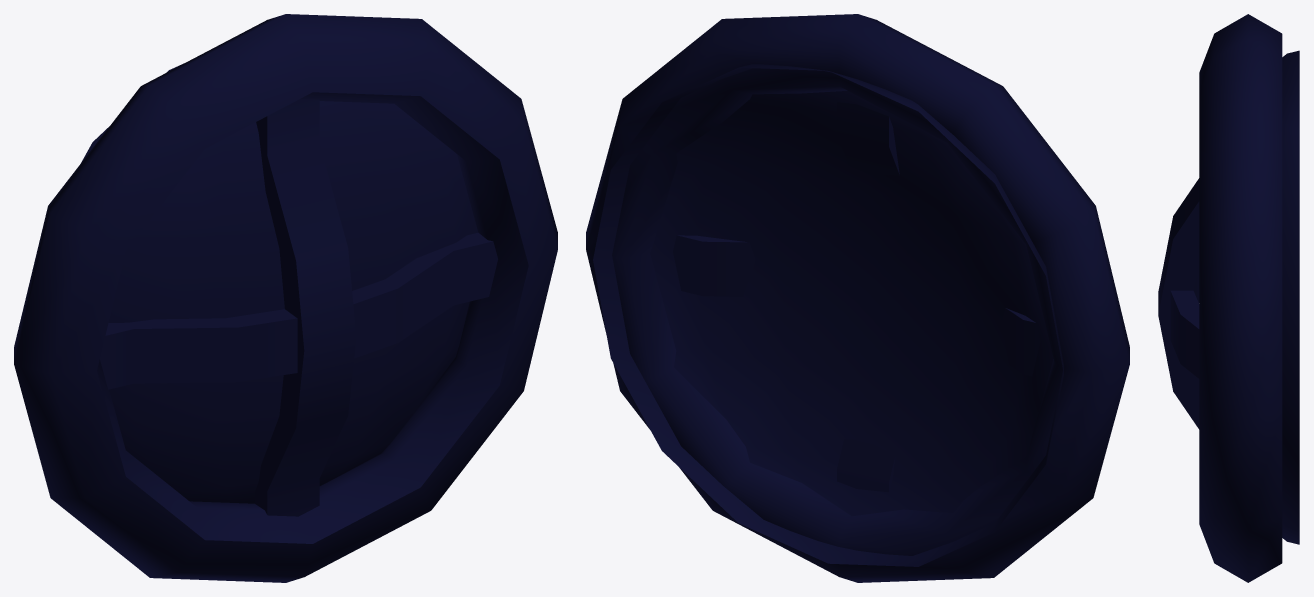
Rendered from SM_window.fbx.
3 renders of one model, left to right at view 1: azimuth 30°, elevation 25°; view 2: azimuth 150°, elevation 25°; view 3: azimuth 270°, elevation 25°, orthographic. The views are drawn at different scales.
Parts seen in each view (by area): view 1: window; view 2: window; view 3: window.
Part boxes in pixels (x1=…): window: x1=14, y1=14, x2=557, y2=582; window: x1=586, y1=14, x2=1129, y2=582; window: x1=1158, y1=14, x2=1299, y2=582.
Size of the model in its own units: 87.32 by 87.32 by 21.62.
